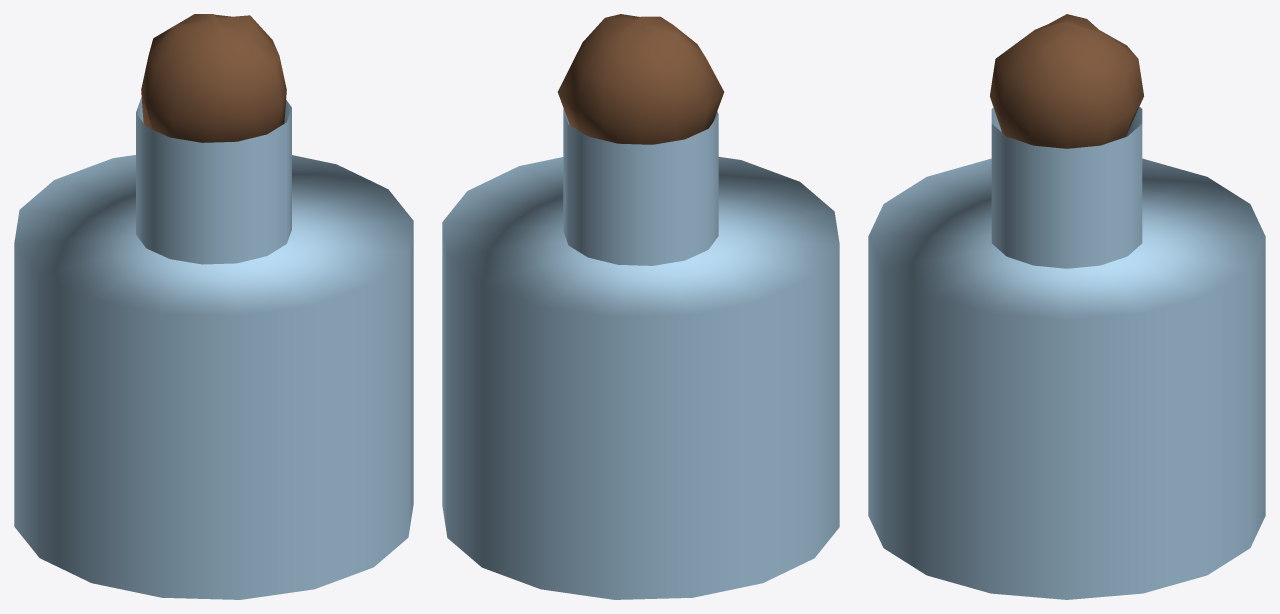
The model's file is pocao_mana.obj.
3 views of the same model, side by side, from view 1: azimuth 30°, elevation 25°; view 2: azimuth 150°, elevation 25°; view 3: azimuth 270°, elevation 25° (orthographic).
Visible parts, largest first — view 1: frasco, gargalo, rolha; view 2: frasco, gargalo, rolha; view 3: frasco, gargalo, rolha.
Part boxes in pixels (x1,y1,x2,y2): frasco: (14,155,413,599); gargalo: (136,98,291,264); rolha: (141,14,286,142); frasco: (442,157,839,599); gargalo: (563,109,718,265); rolha: (557,14,724,144); frasco: (868,158,1265,599); gargalo: (991,107,1142,268); rolha: (990,14,1143,148).
Bounding box in the file's own units: 0.36 × 0.4949 × 0.36.
